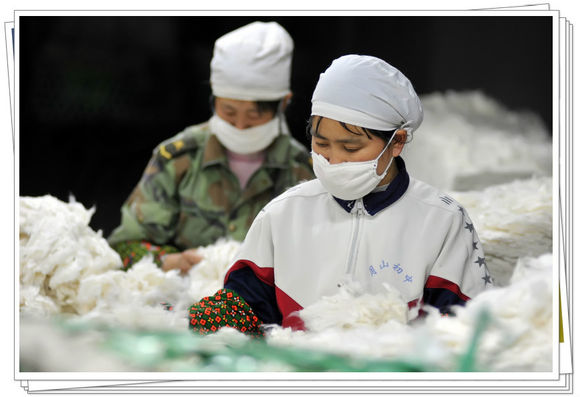face_mask: (310, 116, 388, 201), (212, 87, 278, 148)
